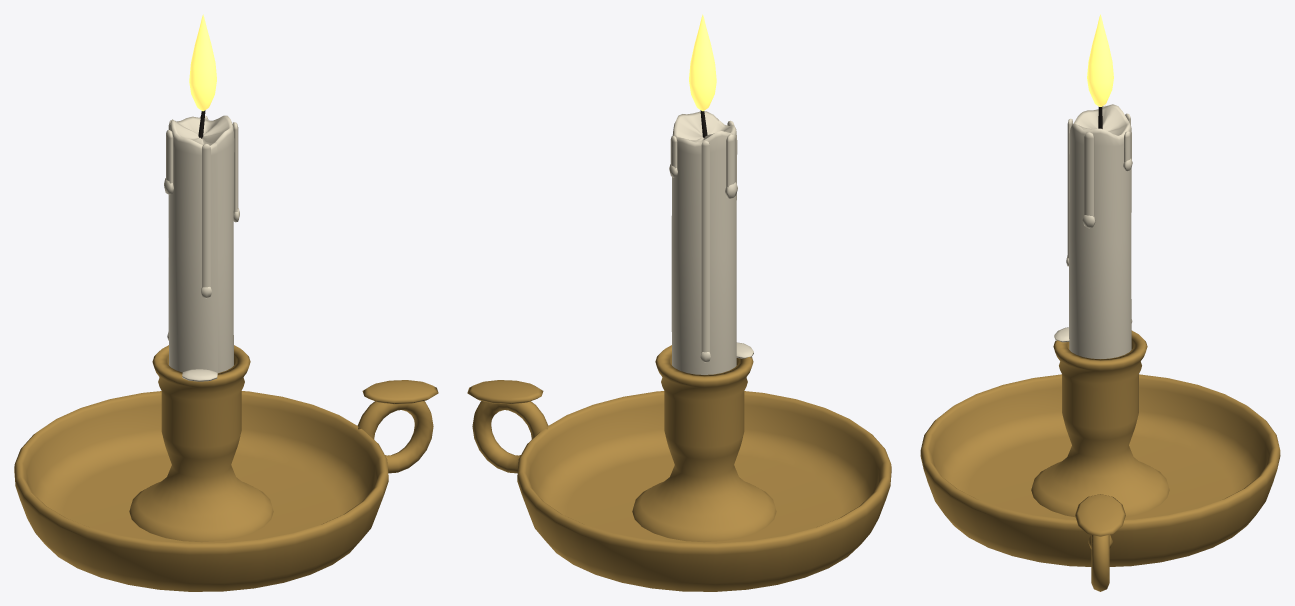
The model's file is candle.glb.
3 views of the same model, side by side, from view 1: azimuth 30°, elevation 25°; view 2: azimuth 150°, elevation 25°; view 3: azimuth 270°, elevation 25° (orthographic). The views are drawn at different scales.
Parts seen in each view (by area): view 1: holder_dish, holder_socket, candle_wax, holder_loop, flame, holder_thumbrest, candle_drip_2; view 2: holder_dish, holder_socket, candle_wax, holder_loop, candle_drip_4, flame, holder_thumbrest; view 3: holder_dish, candle_wax, holder_socket, holder_thumbrest, flame, holder_loop, candle_drip_1.
Part boxes in pixels (<box>): holder_dish: <box>14,391,388,591</box>; holder_socket: <box>129,345,273,542</box>; candle_wax: <box>168,115,234,372</box>; holder_loop: <box>357,401,433,473</box>; flame: <box>189,14,216,111</box>; holder_thumbrest: <box>362,380,438,404</box>; candle_drip_2: <box>202,144,210,287</box>; holder_dish: <box>517,391,891,591</box>; holder_socket: <box>632,345,776,542</box>; candle_wax: <box>671,111,737,374</box>; holder_loop: <box>472,401,548,473</box>; candle_drip_4: <box>701,141,709,352</box>; flame: <box>689,14,716,111</box>; holder_thumbrest: <box>467,380,543,404</box>; holder_dish: <box>920,374,1280,566</box>; candle_wax: <box>1069,104,1131,358</box>; holder_socket: <box>1031,330,1169,517</box>; holder_thumbrest: <box>1075,494,1125,536</box>; flame: <box>1087,14,1113,106</box>; holder_loop: <box>1091,535,1109,591</box>; candle_drip_1: <box>1084,132,1094,216</box>.
Size of the model in its own units: 0.1469 by 0.18 by 0.12.
